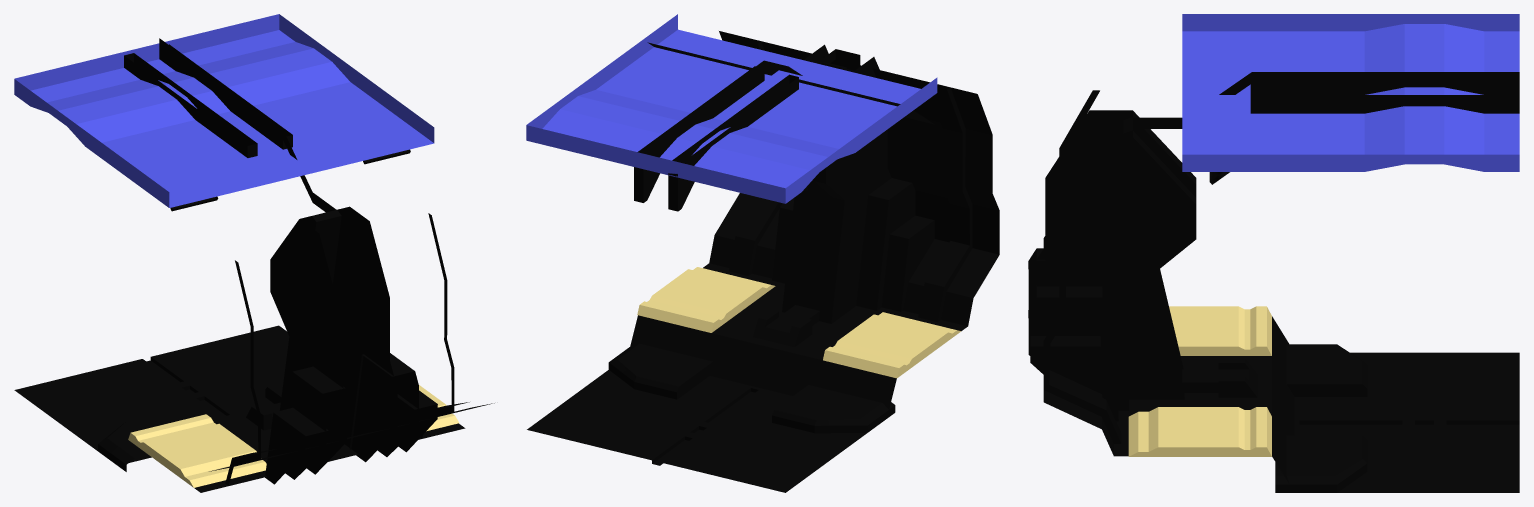
The model's file is Stage02PartsB_v2.1.FBX.
3 renders of one model, left to right at view 1: azimuth 30°, elevation 25°; view 2: azimuth 150°, elevation 25°; view 3: azimuth 270°, elevation 25°, orthographic. The views are drawn at different scales.
Visible parts, largest first — view 1: PartsB_v2.1_001; view 2: PartsB_v2.1_001; view 3: PartsB_v2.1_001.
Part boxes in pixels (box(x1,y1,x2,y2)): PartsB_v2.1_001: box(14, 14, 494, 492); PartsB_v2.1_001: box(526, 14, 999, 492); PartsB_v2.1_001: box(1028, 14, 1519, 492).
Size of the model in its own units: 276 by 318 by 407.
